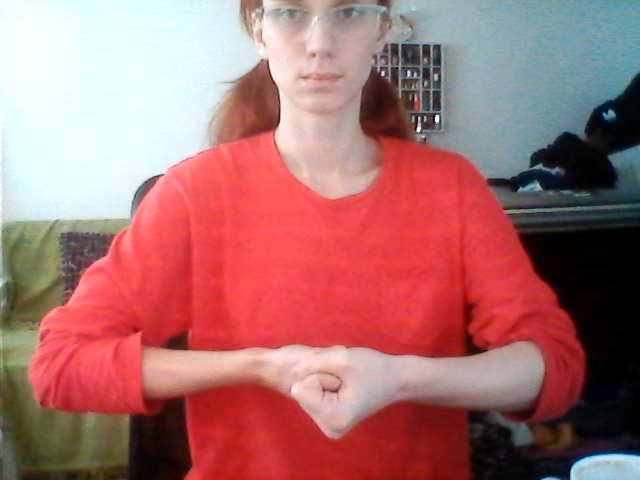hasic: (212, 314, 436, 450)
